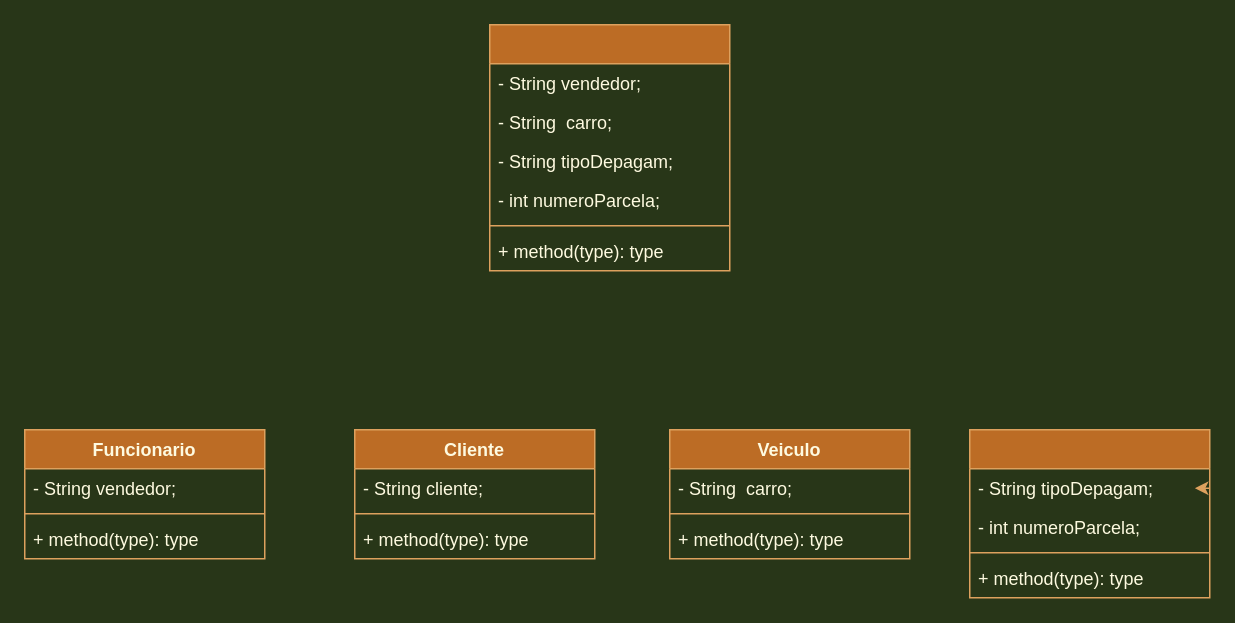
This 1235x623 diagram has some shape labels left out. Here are the shapes that lost their labels. From the top down, the box of each, then its label:
(488, 23, 730, 271): CRM
(968, 428, 1210, 598): Formas de pagamento
